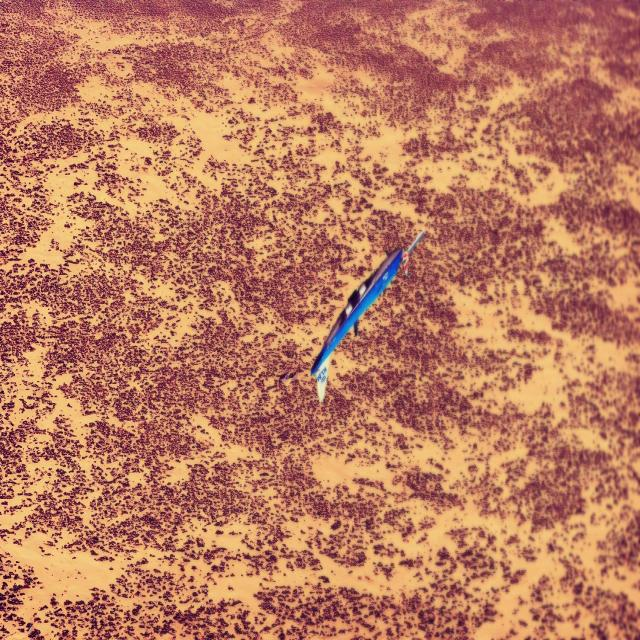airplane: (310, 228, 424, 404)
